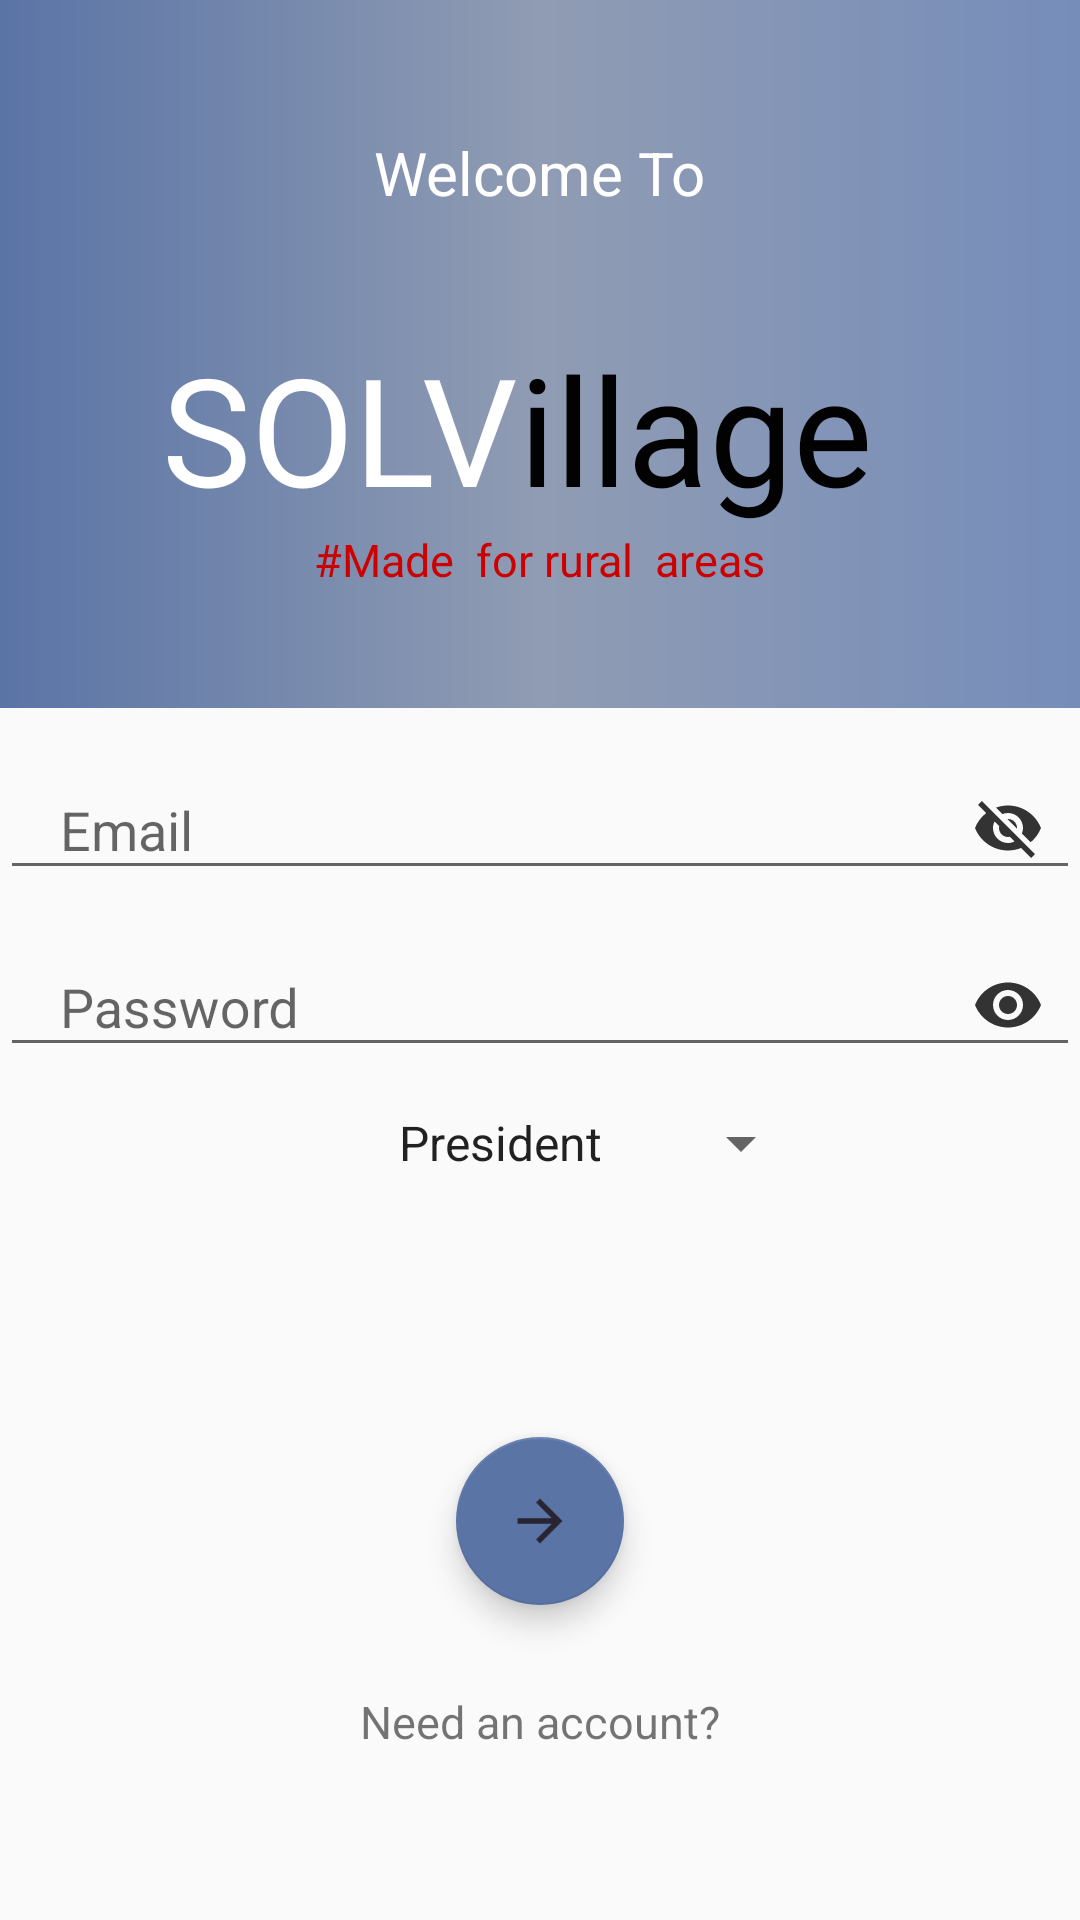

Where to tap for icons on this 1080×1920 app screen, as [x,y]:
login: [540,1521]
